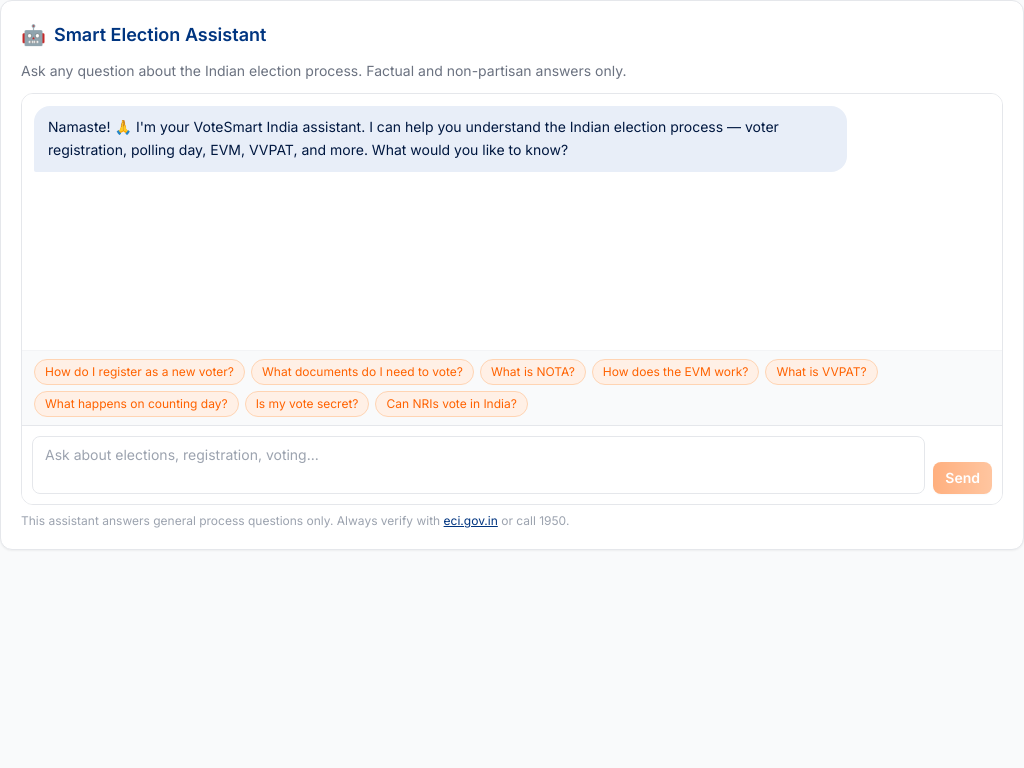
Test: AssistantChat › shows thinking indicator after message is sent
Type "How do I vote?" into the text box with placeholder "Ask about elections, registration, voting..." at {"x": 479, "y": 465}, box [32, 436, 925, 494]
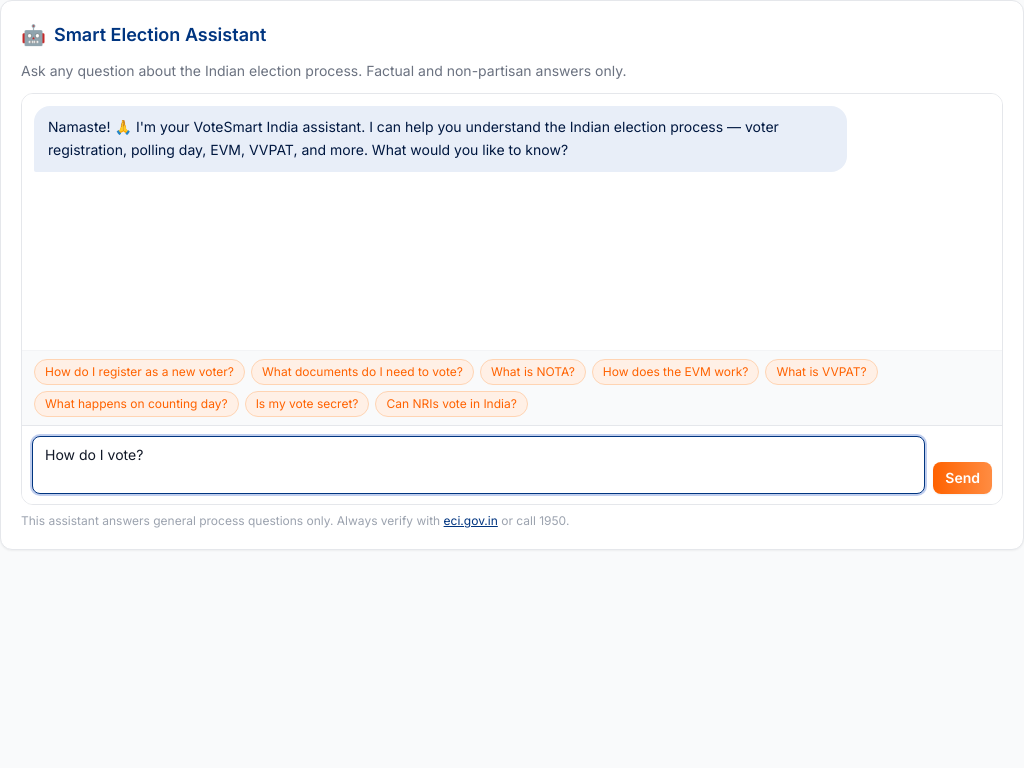
Click the button with aria-label "send message" at {"x": 963, "y": 478}, box [933, 462, 992, 494]
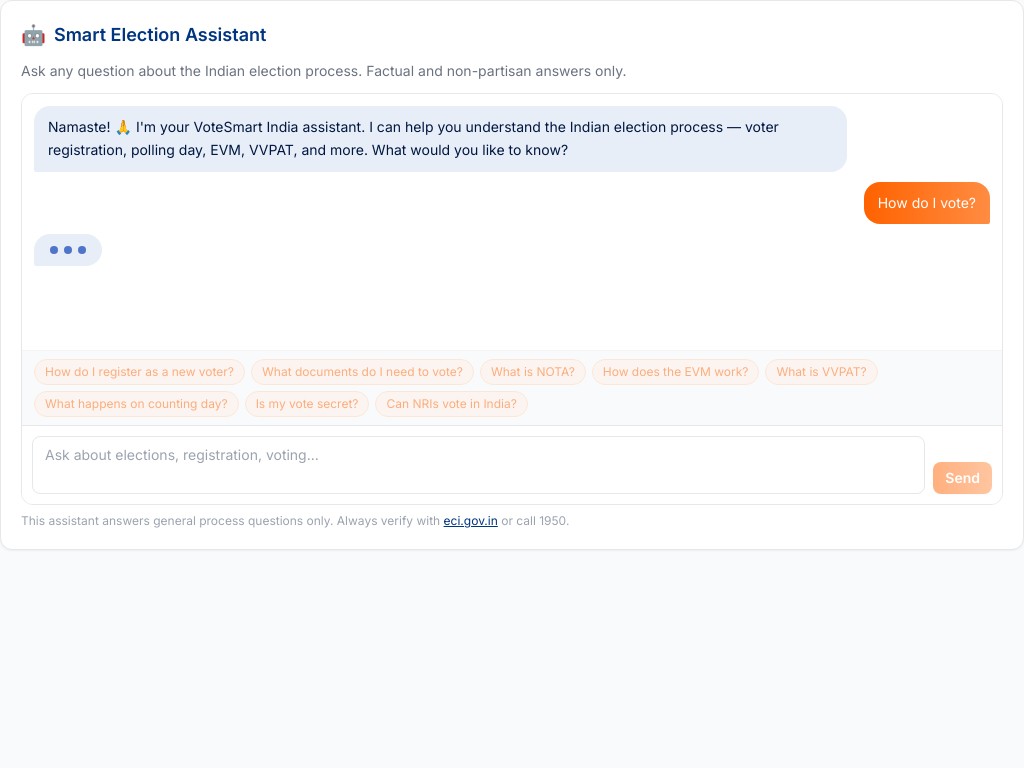
Expected: the message named "thinking" is shown, [34, 234, 102, 266]
